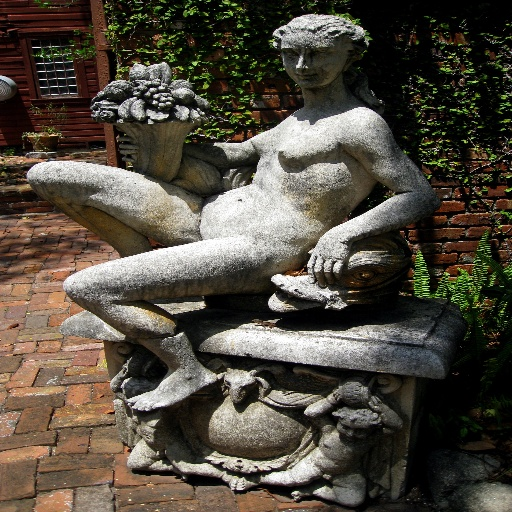hand: (307, 240, 348, 286), (115, 135, 141, 163), (364, 390, 389, 413), (323, 386, 343, 404)
